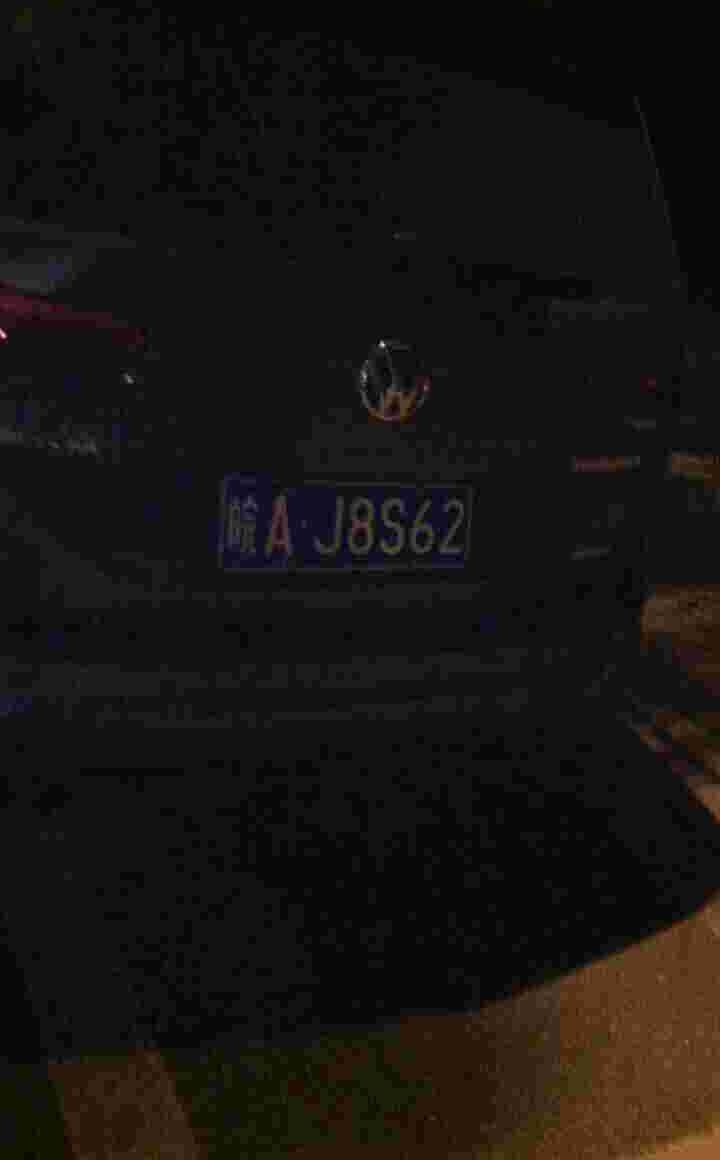license_plate: (217, 482, 481, 576)
